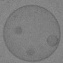small: (47, 36, 58, 46), (14, 27, 23, 36), (26, 48, 35, 55)
